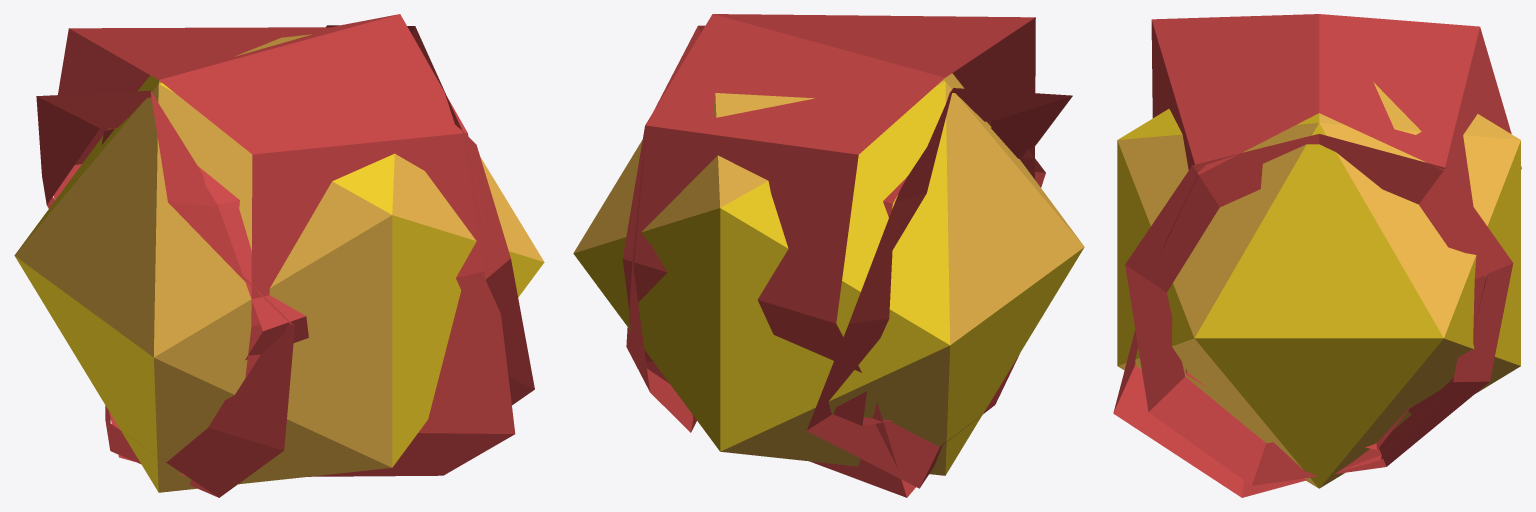
File: fireball2.fbx
The picture shows the model from 3 angles, left to right: view 1: azimuth 30°, elevation 25°; view 2: azimuth 150°, elevation 25°; view 3: azimuth 270°, elevation 25°; orthographic projection. The views are drawn at different scales.
Parts seen in each view (by area): view 1: Platonic_1, Tube; view 2: Platonic_1, Tube; view 3: Platonic_1, Tube.
Part boxes in pixels (x1,y1,x2,y2): Platonic_1: (14, 34, 544, 492); Tube: (36, 14, 534, 497); Platonic_1: (573, 73, 1084, 475); Tube: (622, 14, 1072, 497); Platonic_1: (1117, 82, 1520, 488); Tube: (1113, 14, 1521, 497).
Bounding box in the file's own units: 162 × 170 × 164.
